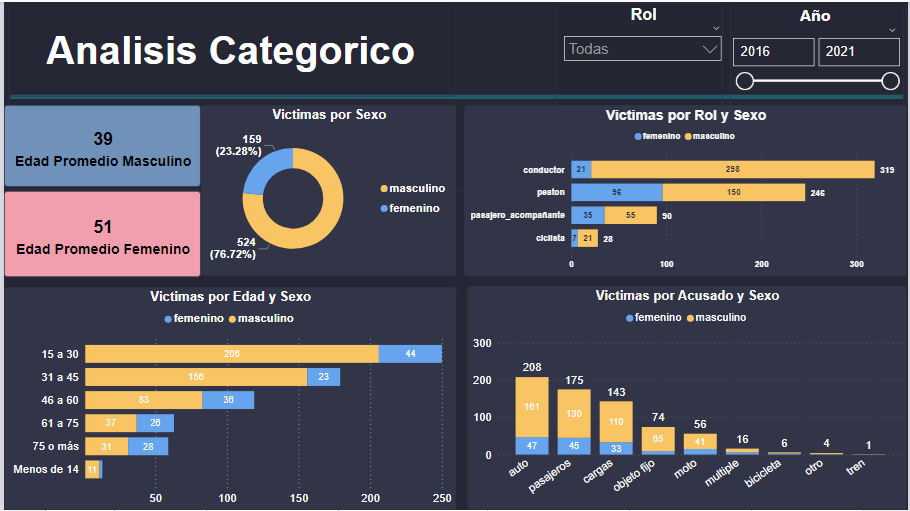

The page's visual inventory and layout, read from the dashboard file:
{"tool":"powerbi","page":{"name":"Analisis por Victima","canvas":[1280,720],"ordinal":3},"visuals":[{"type":"shape","box":[5,0,1269.9,267.1],"z":0},{"type":"shape","box":[0,0,640.7,134.4],"z":1000},{"type":"slicer","title":"Rol","fields":{"Values":["homicidios_cleaned.rol"]},"box":[780.9,1.4,249.4,147.4],"z":2000},{"type":"slicer","title":"Año","fields":{"Values":["Calendario.Año"]},"box":[1017.6,0,262.2,148.8],"z":3000},{"type":"barChart","title":"Victimas por Edad y Sexo","fields":{"Category":["homicidios_cleaned.Edad_RangoEtario"],"Series":["homicidios_cleaned.sexo"],"Y":["Sum(homicidios_cleaned.nro_victimas)"]},"box":[0,403.3,640.7,316.1],"z":4000},{"type":"columnChart","title":"Victimas por Acusado y Sexo","fields":{"Category":["homicidios_cleaned.vehiculo_acusado"],"Y":["Sum(homicidios_cleaned.nro_victimas)"],"Series":["homicidios_cleaned.sexo"]},"box":[656.7,403.2,623.3,316.9],"z":5000},{"type":"card","fields":{"Values":["Medidas.Edad Promedio Masculino"]},"box":[0,145.9,278.9,115.8],"z":6000},{"type":"card","fields":{"Values":["Medidas.Edad Promedio Femenino"]},"box":[0,267.4,278.9,121.6],"z":7000},{"type":"donutChart","title":"Victimas por Sexo","fields":{"Category":["homicidios_cleaned.sexo"],"Y":["Sum(homicidios_cleaned.nro_victimas)"]},"box":[278.9,145.9,361.8,241.7],"z":8000},{"type":"barChart","title":"Victimas por Rol y Sexo","fields":{"Category":["homicidios_cleaned.rol"],"Y":["Sum(homicidios_cleaned.nro_victimas)"],"Series":["homicidios_cleaned.sexo"]},"box":[652.2,145.9,627.8,243.1],"z":9000}]}

Visuals, with their boxes in screenshot pixels (x1, y1, x2, y2), scaled from the page's 1280x720 canvas onto the 910x511 screenshot:
shape: bbox=(4, 0, 906, 190)
shape: bbox=(0, 0, 455, 95)
"Rol" slicer: bbox=(555, 1, 732, 106)
"Año" slicer: bbox=(723, 0, 909, 106)
"Victimas por Edad y Sexo" barChart: bbox=(0, 286, 455, 510)
"Victimas por Acusado y Sexo" columnChart: bbox=(467, 286, 909, 510)
card - Medidas.Edad Promedio Masculino: bbox=(0, 104, 198, 186)
card - Medidas.Edad Promedio Femenino: bbox=(0, 190, 198, 276)
"Victimas por Sexo" donutChart: bbox=(198, 104, 455, 275)
"Victimas por Rol y Sexo" barChart: bbox=(464, 104, 909, 276)
